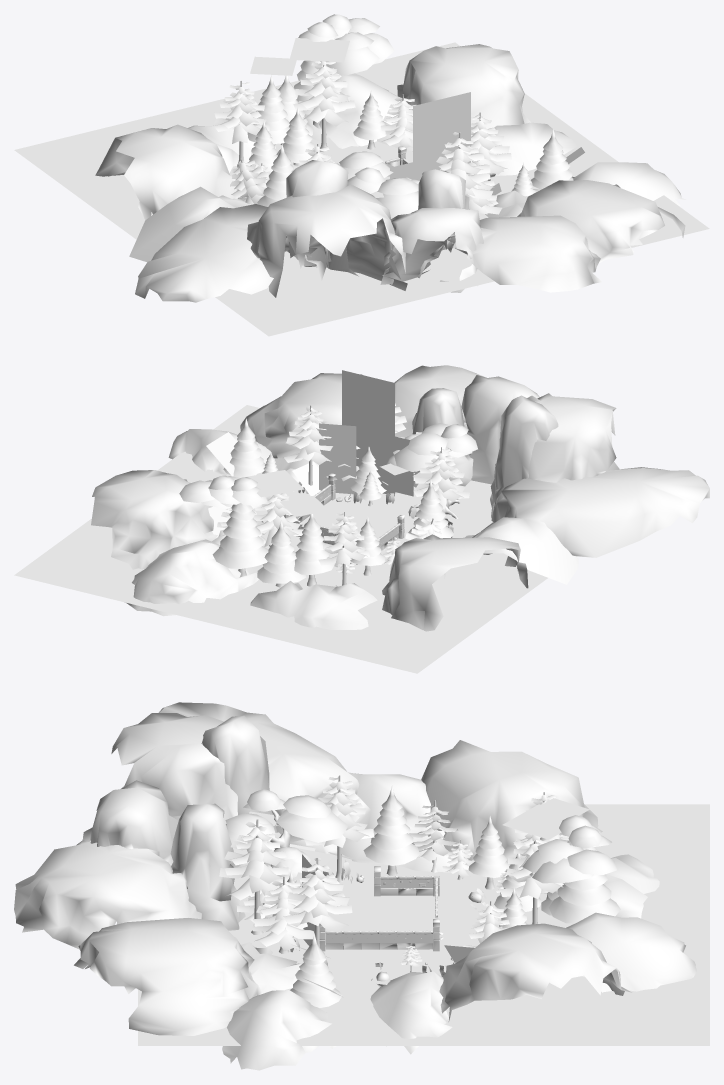
Rendered from forest.glb.
3 renders of one model, top to bottom at view 1: azimuth 30°, elevation 25°; view 2: azimuth 150°, elevation 25°; view 3: azimuth 270°, elevation 25°, orthographic. The views are drawn at different scales.
Visible parts, largest first — view 1: Forest, Forest2; view 2: Forest, Forest2; view 3: Forest, Forest2.
Part boxes in pixels (x1,y1,x2,y2): Forest: (95, 44, 685, 302); Forest2: (14, 14, 709, 336); Forest: (91, 365, 709, 631); Forest2: (14, 370, 577, 673); Forest: (14, 702, 696, 1070); Forest2: (138, 789, 709, 1045).
Bounding box in the file's own units: 93.24 × 22.43 × 90.02.
8 materials, 8 textured.
